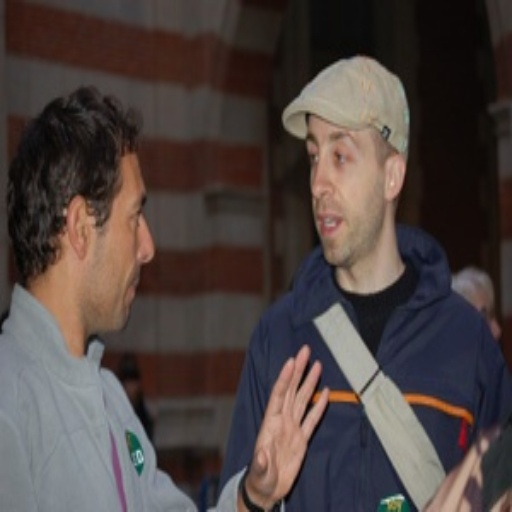hand: (256, 344, 336, 483)
